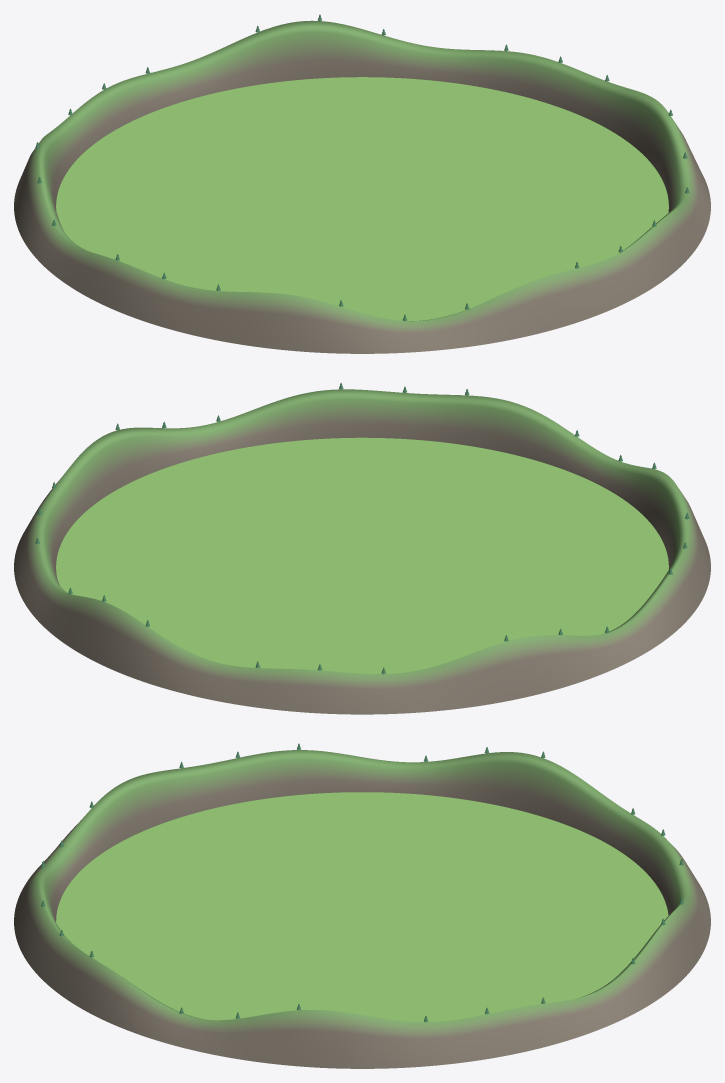
File: world-border.glb
3 renders of one model, top to bottom at view 1: azimuth 30°, elevation 25°; view 2: azimuth 150°, elevation 25°; view 3: azimuth 270°, elevation 25°, orthographic.
Visible parts, largest first — view 1: InnerFloor, ContinuousCliff (×8); view 2: InnerFloor, ContinuousCliff (×8); view 3: InnerFloor, ContinuousCliff (×8).
Boxes of the visible parts, x1,y1,x2,y2 form: InnerFloor: [56, 77, 668, 320]; ContinuousCliff (×8): [14, 20, 710, 353]; InnerFloor: [56, 437, 668, 673]; ContinuousCliff (×8): [14, 389, 710, 714]; InnerFloor: [56, 792, 668, 1021]; ContinuousCliff (×8): [14, 750, 710, 1068].
Bounding box in the file's own units: 728 × 65.71 × 728.
